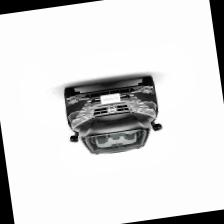NON-EV: (62, 76, 165, 160)
